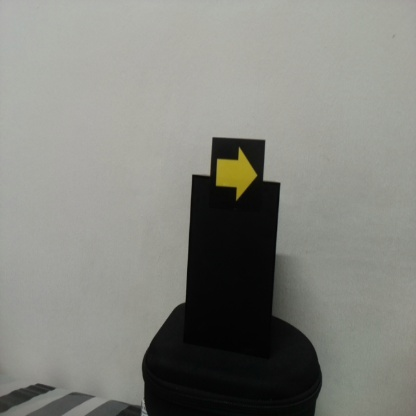id_3: (211, 138, 264, 214)
